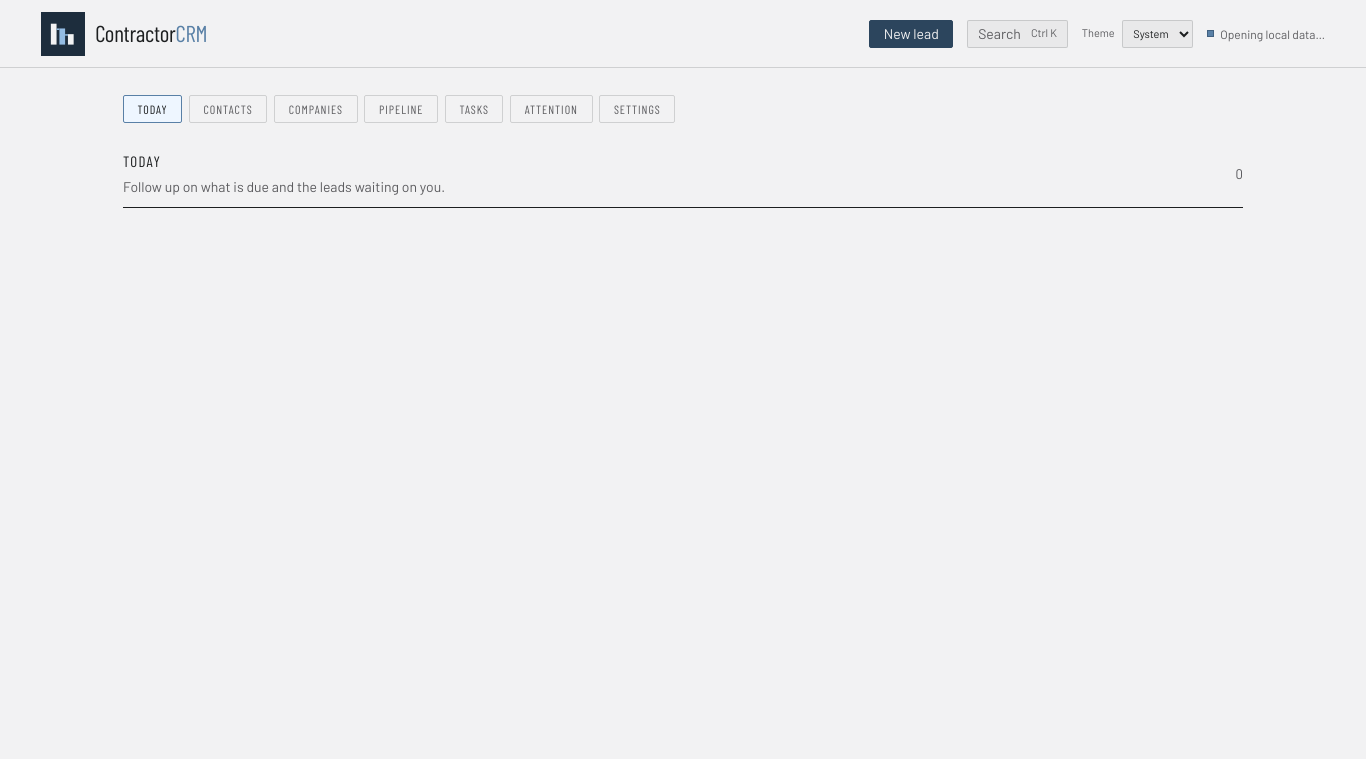
Scenario: contact list and detail › moves selection with arrow keys and opens the record with Enter
Click the button "Contacts" at (228, 109), box top-left (189, 95), bottom-right (267, 123)
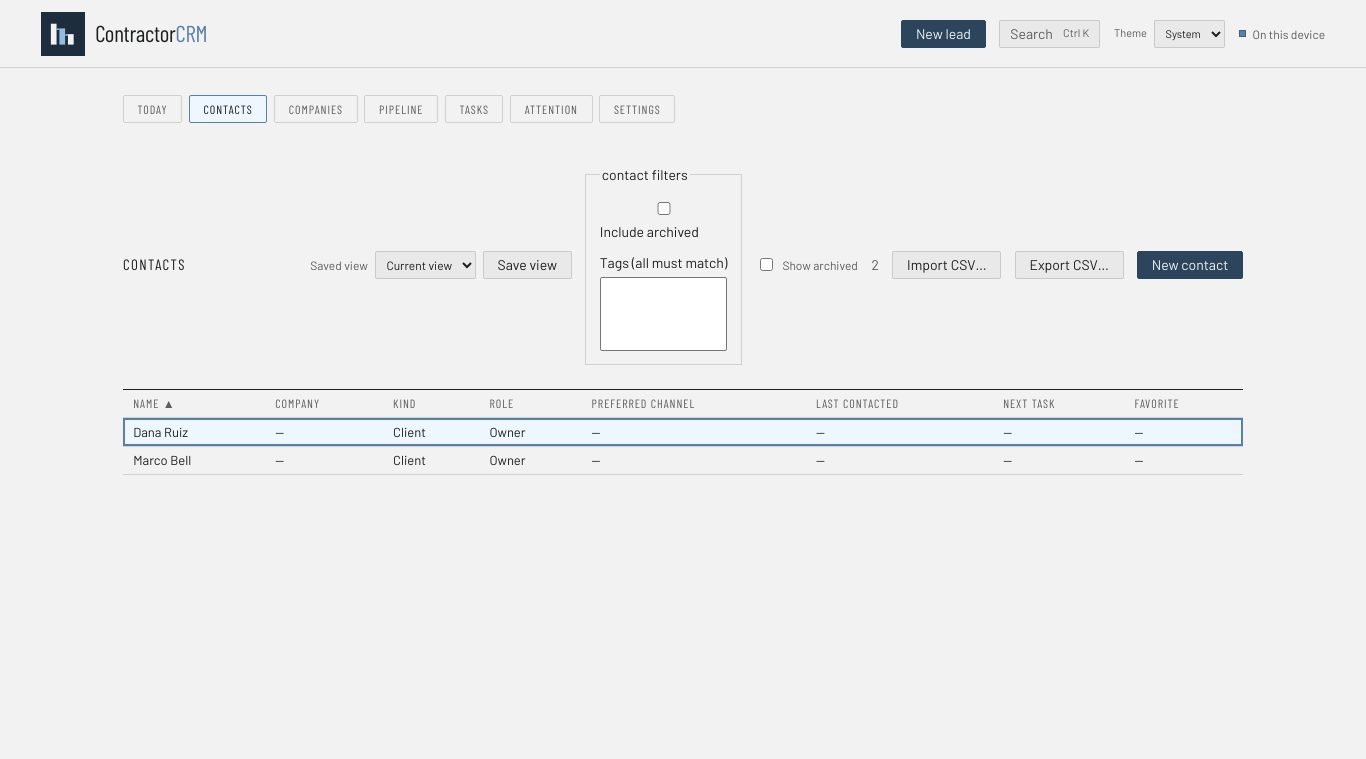
Press Arrowdown
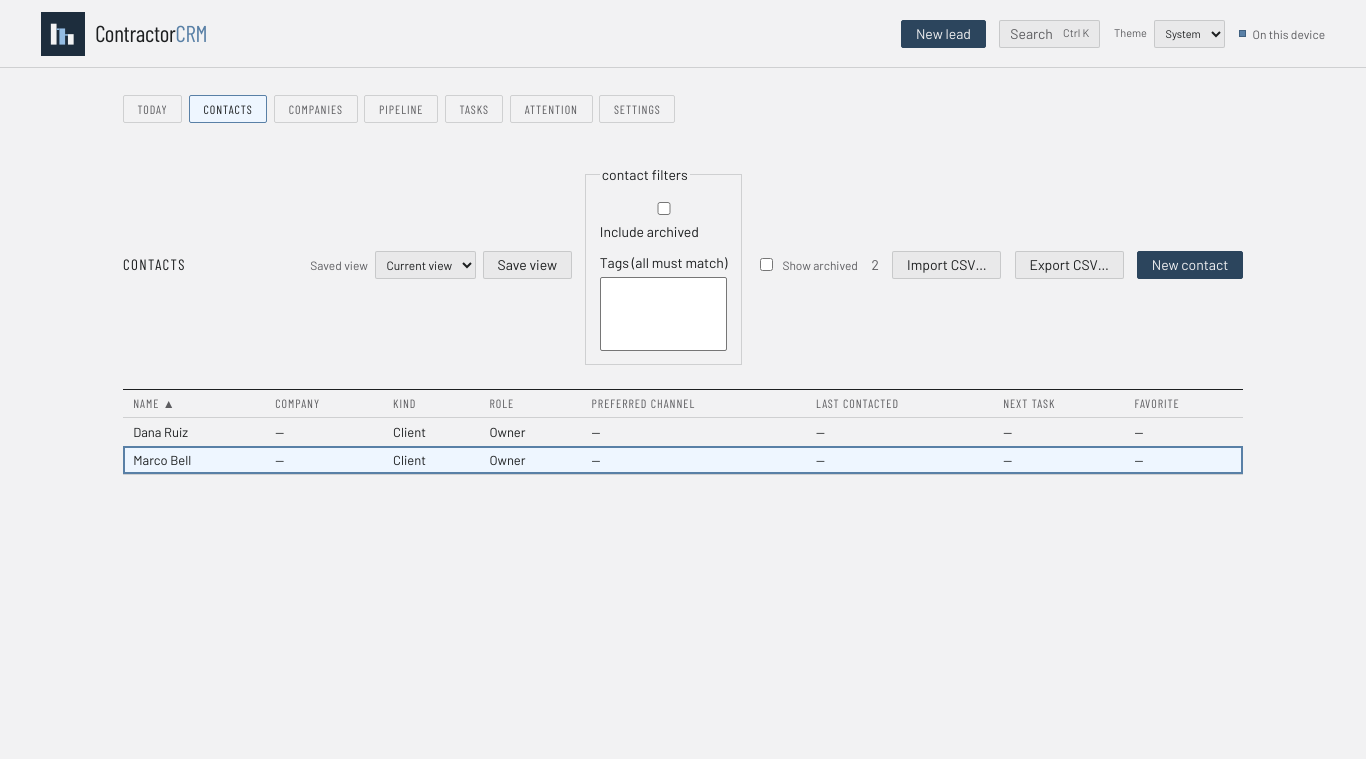
Press Enter
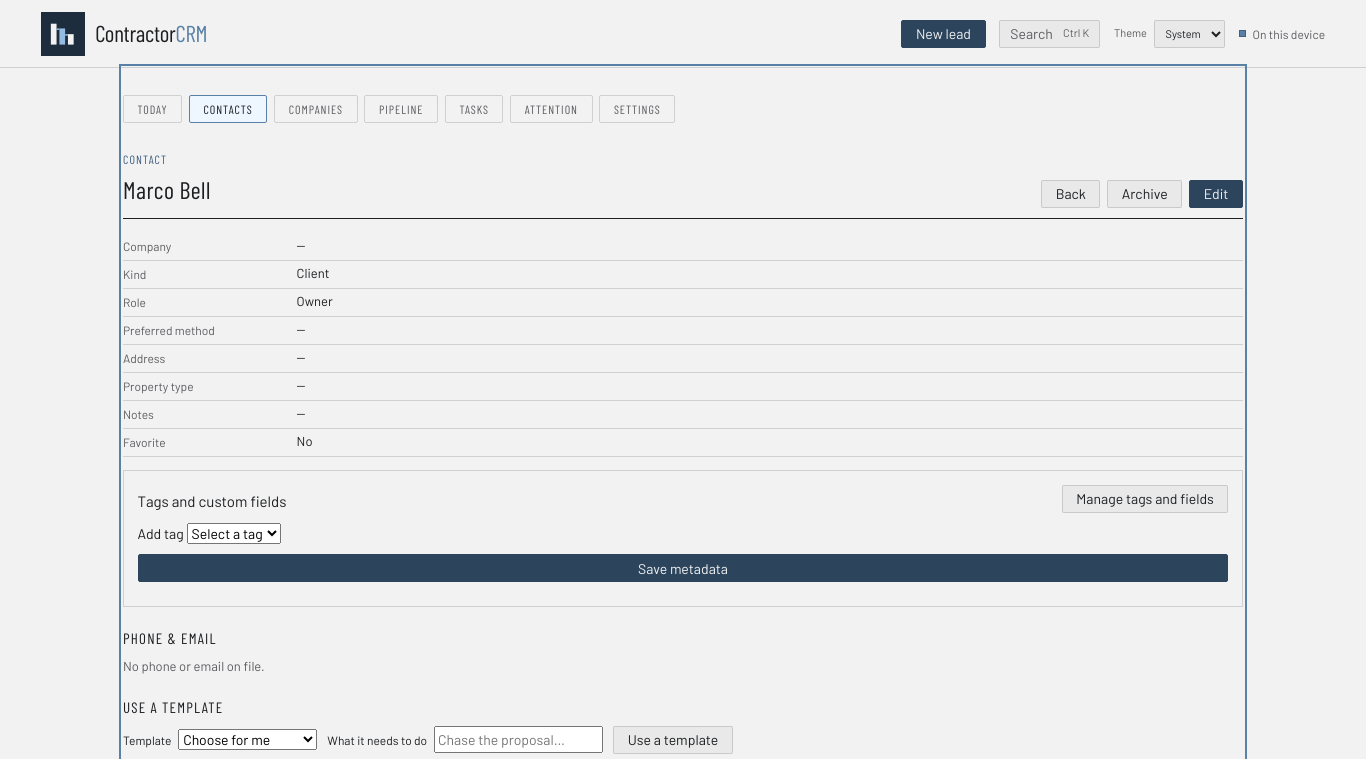
Now the heading "Marco Bell" is shown, box top-left (123, 172), bottom-right (211, 208)
Now the heading "Tags and custom fields" is shown, box top-left (138, 490), bottom-right (286, 513)
